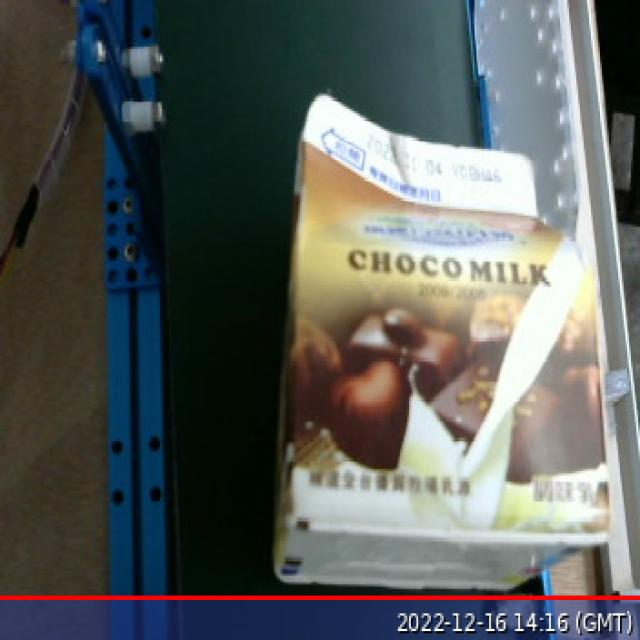non_white_jug: (263, 80, 632, 600)
